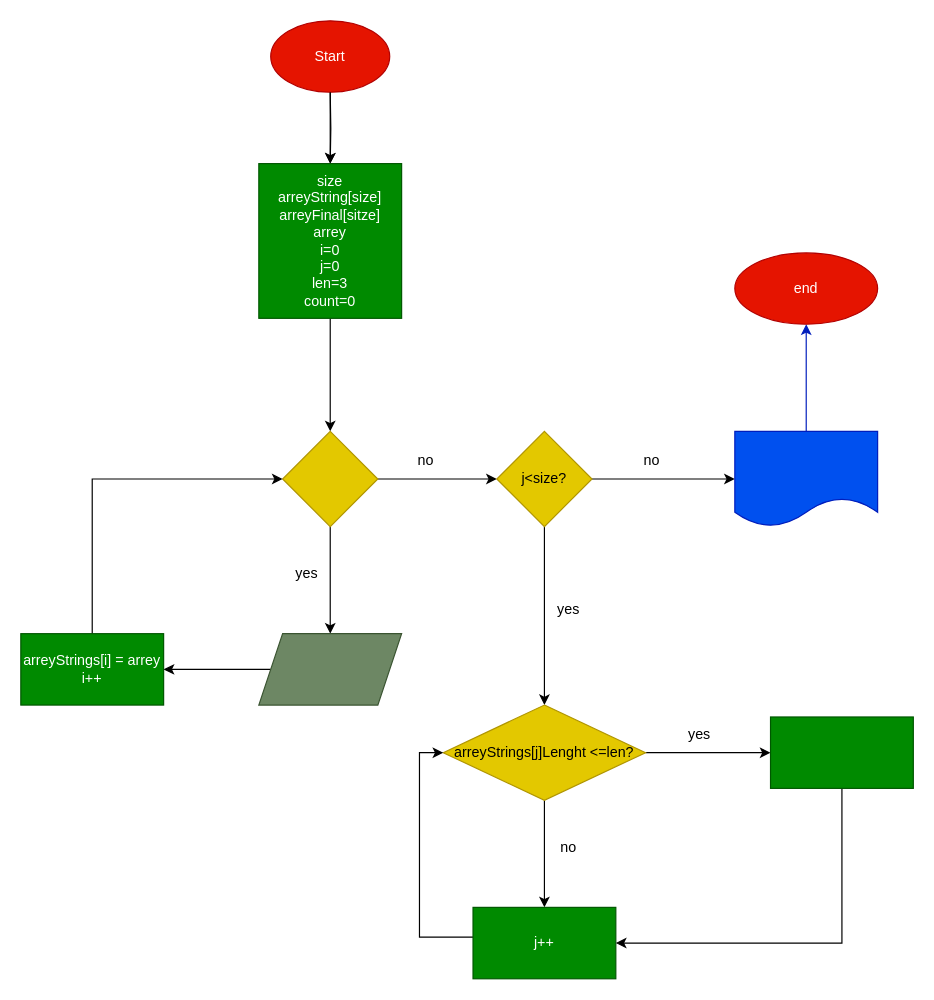
This 934x1000 diagram has some shape labels left out. Here are the shapes that lost their labels. From the top down, the box of each, then its label:
(281, 430, 378, 527): i<size?
(734, 430, 878, 527): arreyFinal
(258, 632, 402, 705): arrey
(769, 716, 913, 788): arreyFinal[count] = arreyStrings[j] count++
